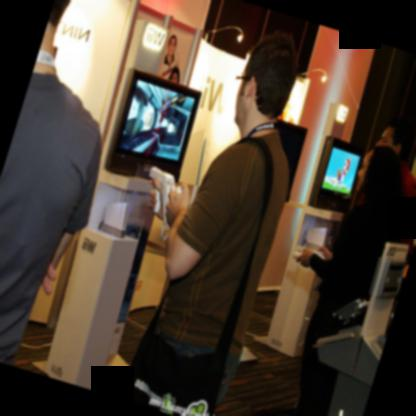handbag: (115, 136, 273, 416)
